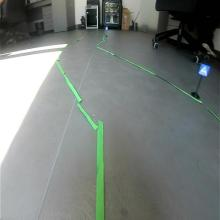crosswalk: (197, 62, 211, 79)
